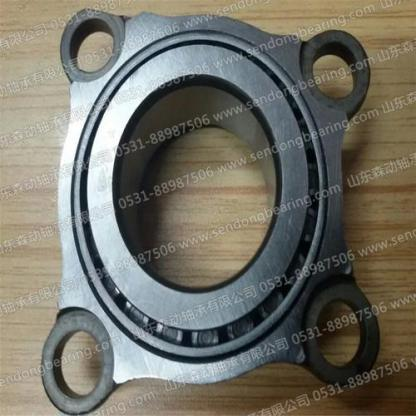FOD: (67, 29, 326, 368)
